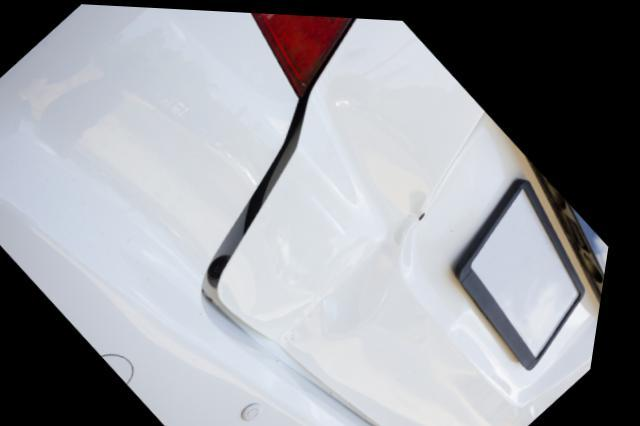dent: (270, 188, 433, 344)
dislocated part: (195, 93, 314, 303)
